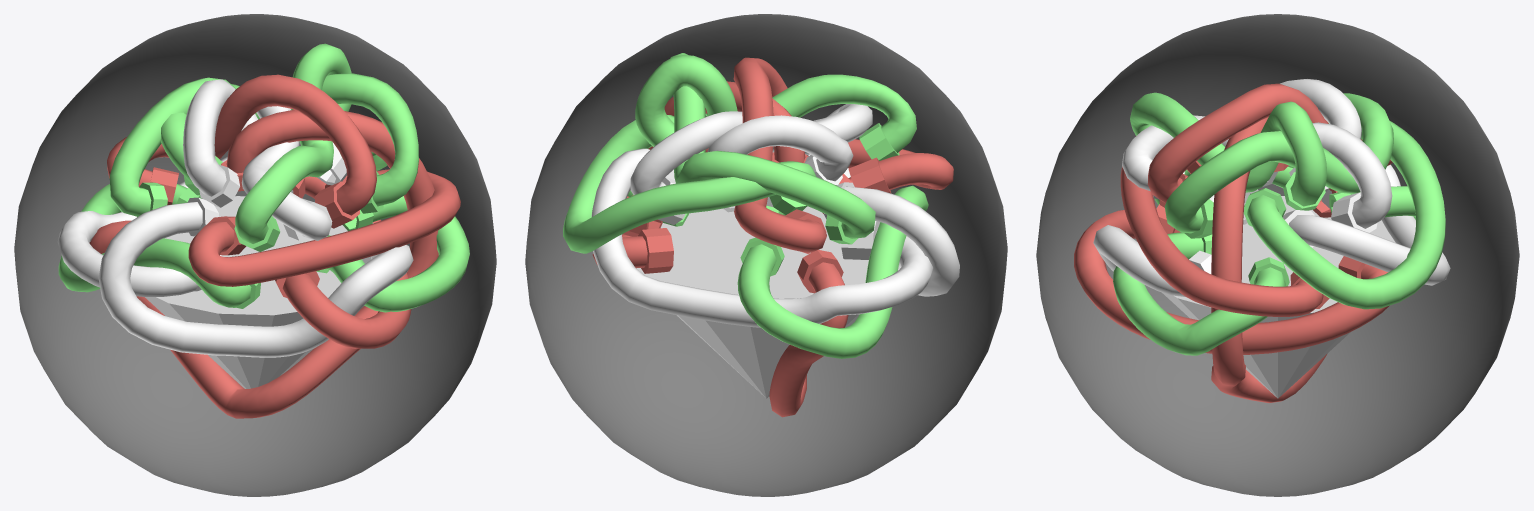
File: Level_28.glb
The picture shows the model from 3 angles, left to right: view 1: azimuth 30°, elevation 25°; view 2: azimuth 150°, elevation 25°; view 3: azimuth 270°, elevation 25°; orthographic projection.
Visible parts, largest first — view 1: Sphere, BezierCurve.005, BezierCurve.001, BezierCurve.010, BezierCurve.011, BezierCurve.004, Base, BezierCurve.012, BezierCurve.009, BezierCurve, BezierCurve.002, BezierCurve.008 (+3 smaller); view 2: Sphere, BezierCurve.002, Base, BezierCurve.012, BezierCurve.003, BezierCurve.006, BezierCurve.011, BezierCurve.004, BezierCurve.007, BezierCurve.001, BezierCurve.008, BezierCurve.005 (+2 smaller); view 3: Sphere, BezierCurve.003, BezierCurve, BezierCurve.011, BezierCurve.010, BezierCurve.012, BezierCurve.009, BezierCurve.001, BezierCurve.007, BezierCurve.004, Base, BezierCurve.002 (+3 smaller).
Part boxes in pixels (box(x1,y1,x2,y2)): Sphere: box(14, 14, 496, 496); BezierCurve.005: box(98, 197, 413, 357); BezierCurve.001: box(89, 110, 438, 418); BezierCurve.010: box(188, 169, 460, 286); BezierCurve.011: box(109, 73, 418, 216); BezierCurve.004: box(107, 74, 376, 228); Base: box(145, 196, 373, 388); BezierCurve.012: box(234, 43, 351, 251); BezierCurve.009: box(304, 196, 469, 312); BezierCurve: box(275, 176, 411, 348); BezierCurve.002: box(57, 142, 346, 296); BezierCurve.008: box(183, 79, 257, 207); Sphere: box(525, 14, 1007, 496); BezierCurve.002: box(591, 148, 932, 327); Base: box(636, 206, 901, 398); BezierCurve.012: box(635, 55, 916, 160); BezierCurve.003: box(563, 115, 816, 253); BezierCurve.006: box(737, 185, 928, 358); BezierCurve.011: box(670, 53, 875, 244); BezierCurve.004: box(733, 57, 826, 253); BezierCurve.007: box(630, 104, 872, 225); BezierCurve.001: box(648, 81, 848, 417); BezierCurve.008: box(707, 115, 853, 185); BezierCurve.005: box(723, 168, 959, 296); Sphere: box(1036, 14, 1519, 496); BezierCurve.003: box(1243, 121, 1445, 309); BezierCurve: box(1074, 204, 1389, 354); BezierCurve.011: box(1164, 93, 1393, 238); BezierCurve.010: box(1120, 136, 1329, 316); BezierCurve.012: box(1130, 92, 1326, 210); BezierCurve.009: box(1113, 232, 1289, 355); BezierCurve.001: box(1211, 117, 1337, 403); BezierCurve.007: box(1122, 115, 1392, 232); BezierCurve.004: box(1147, 83, 1392, 207); Base: box(1162, 196, 1395, 398); BezierCurve.002: box(1243, 164, 1450, 285).
Size of the model in its own units: 24.49 by 24.49 by 24.49.
